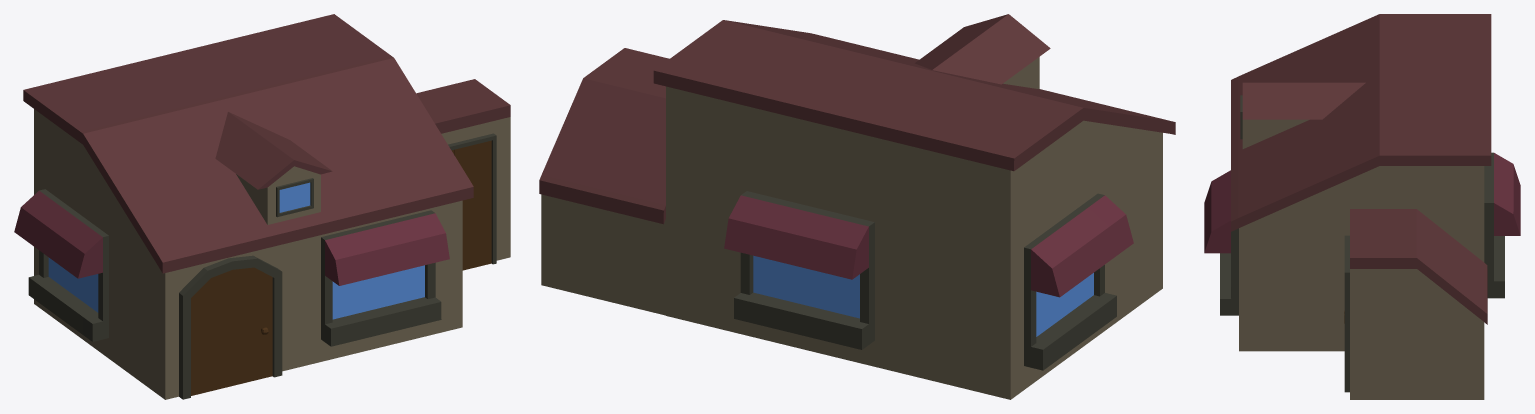
Rendered from CajaCasa 2.2.fbx.
3 renders of one model, left to right at view 1: azimuth 30°, elevation 25°; view 2: azimuth 150°, elevation 25°; view 3: azimuth 270°, elevation 25°, orthographic. The views are drawn at different scales.
Visible parts, largest first — view 1: Cube; view 2: Cube; view 3: Cube.
Boxes of the visible parts, x1=… form: Cube: x1=14, y1=14, x2=510, y2=399; Cube: x1=539, y1=14, x2=1175, y2=399; Cube: x1=1204, y1=14, x2=1520, y2=399.
Size of the model in its own units: 926 by 432 by 623.
